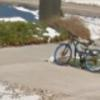bicycles: (52, 30, 100, 72)
